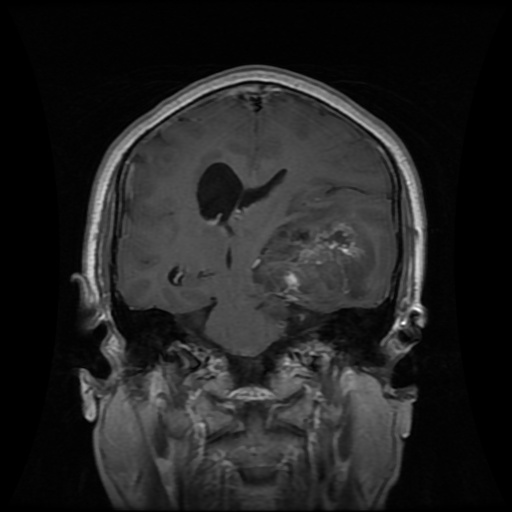glioma: (252, 214, 377, 321)
